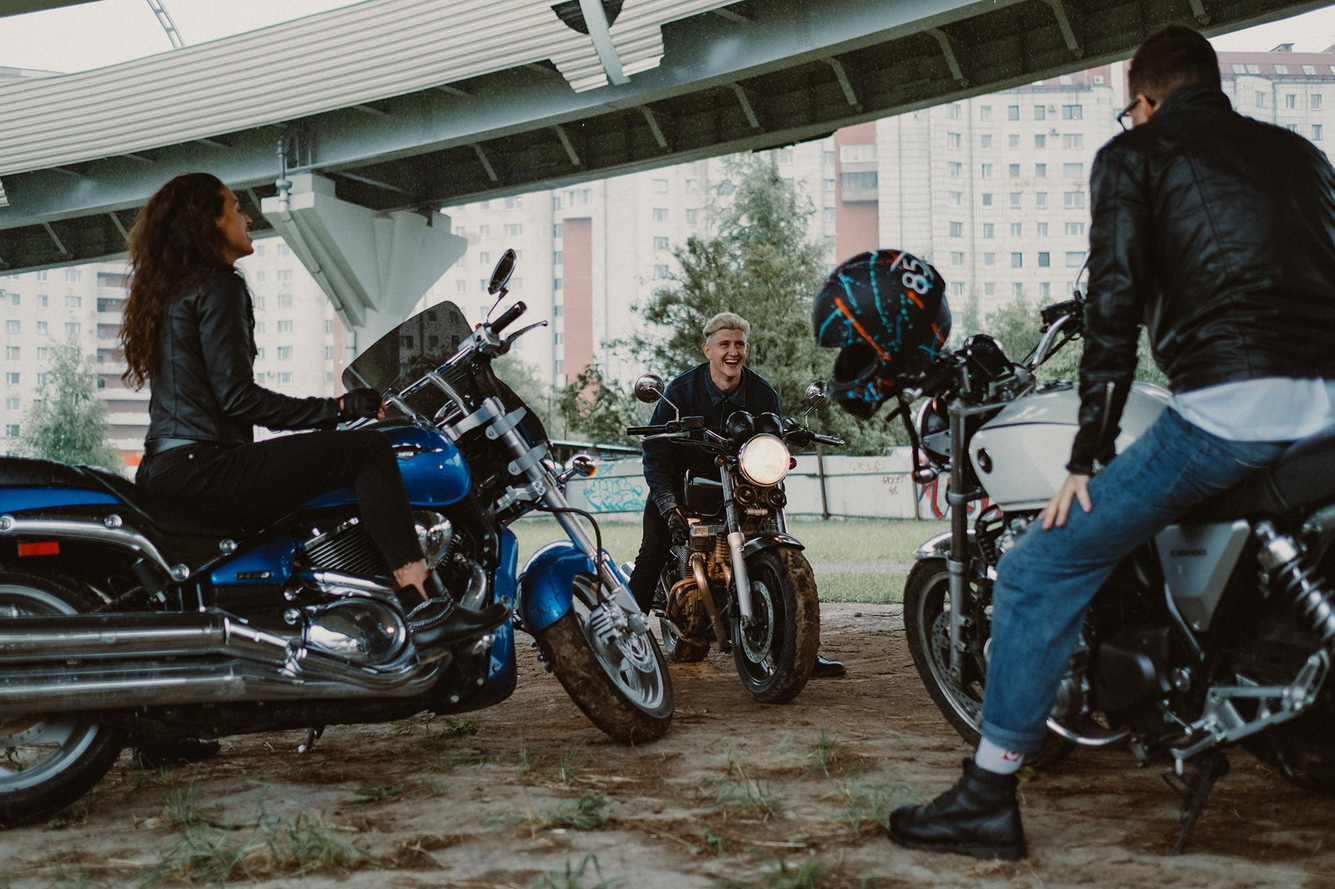helmet: (811, 247, 953, 421)
nohelmet: (1116, 22, 1224, 157), (130, 171, 256, 266), (701, 310, 751, 383)
